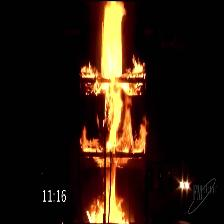fire: (97, 1, 130, 224)
